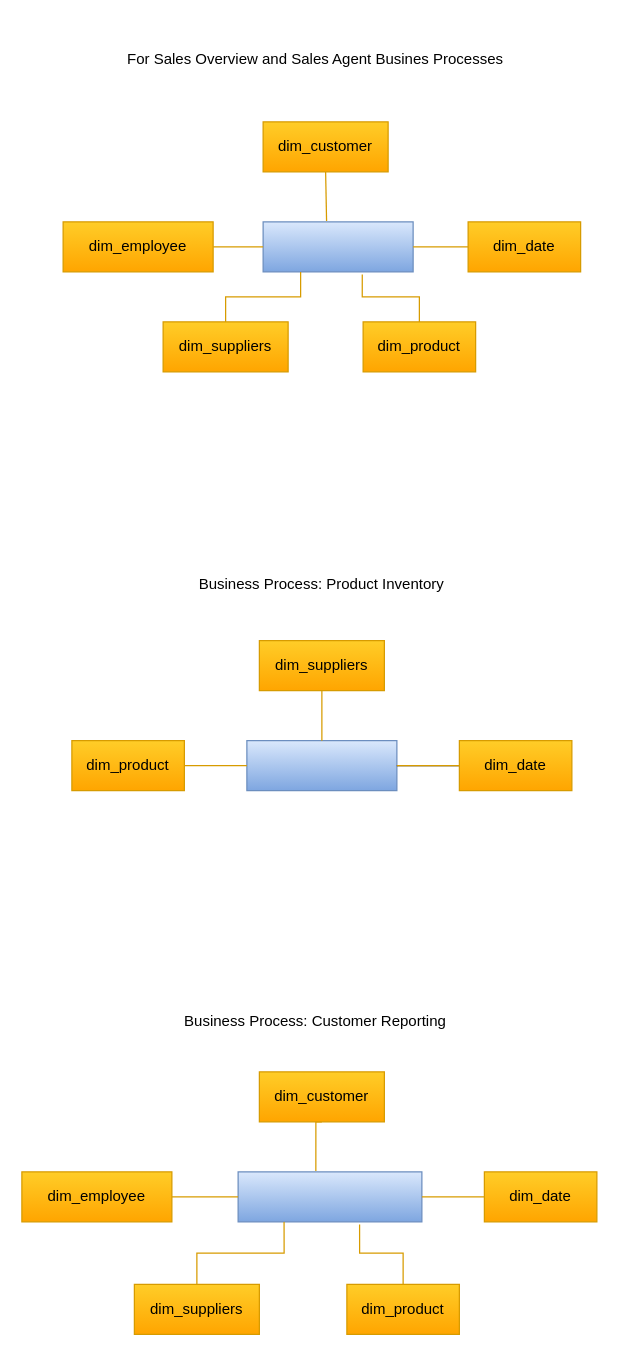
The diagram is 619 pixels wide and 1356 high, and some of its shapes have lost their labels. The shapes that lost their labels are listed below. From the top down, each one's centre as x and y in pixels, then its label:
At (x=337, y=246): "fact_sales".
At (x=321, y=765): "fact_inventory".
At (x=329, y=1196): "fact_purchase_order".
